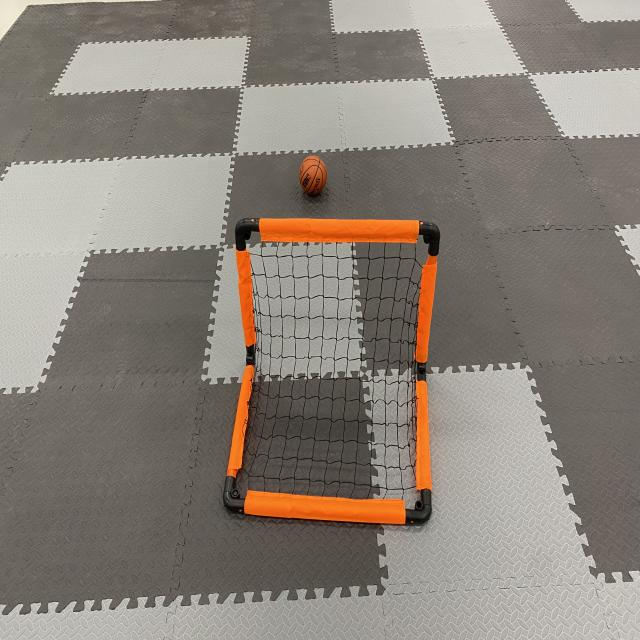ball: (296, 152, 330, 202)
gate: (219, 212, 443, 530)
